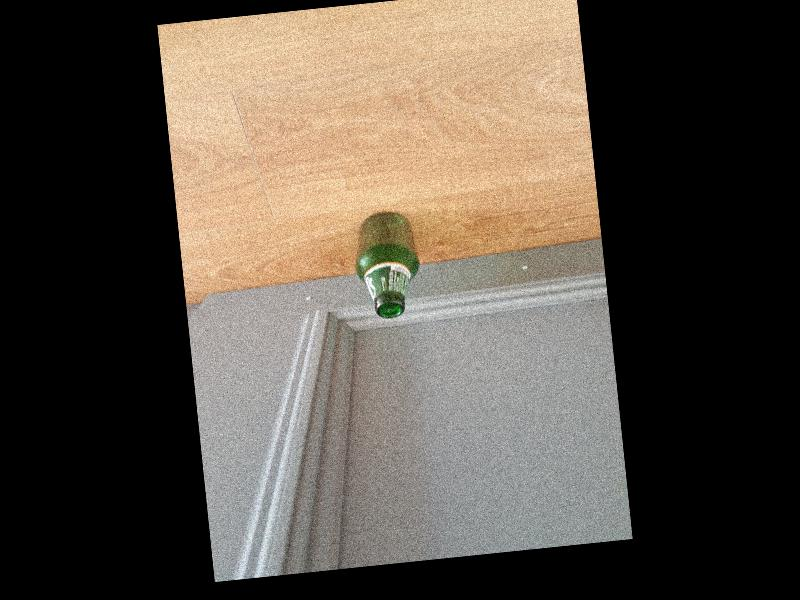Beer: (350, 208, 424, 320)
